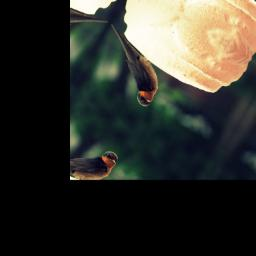Swallow: (85, 22, 175, 111)
